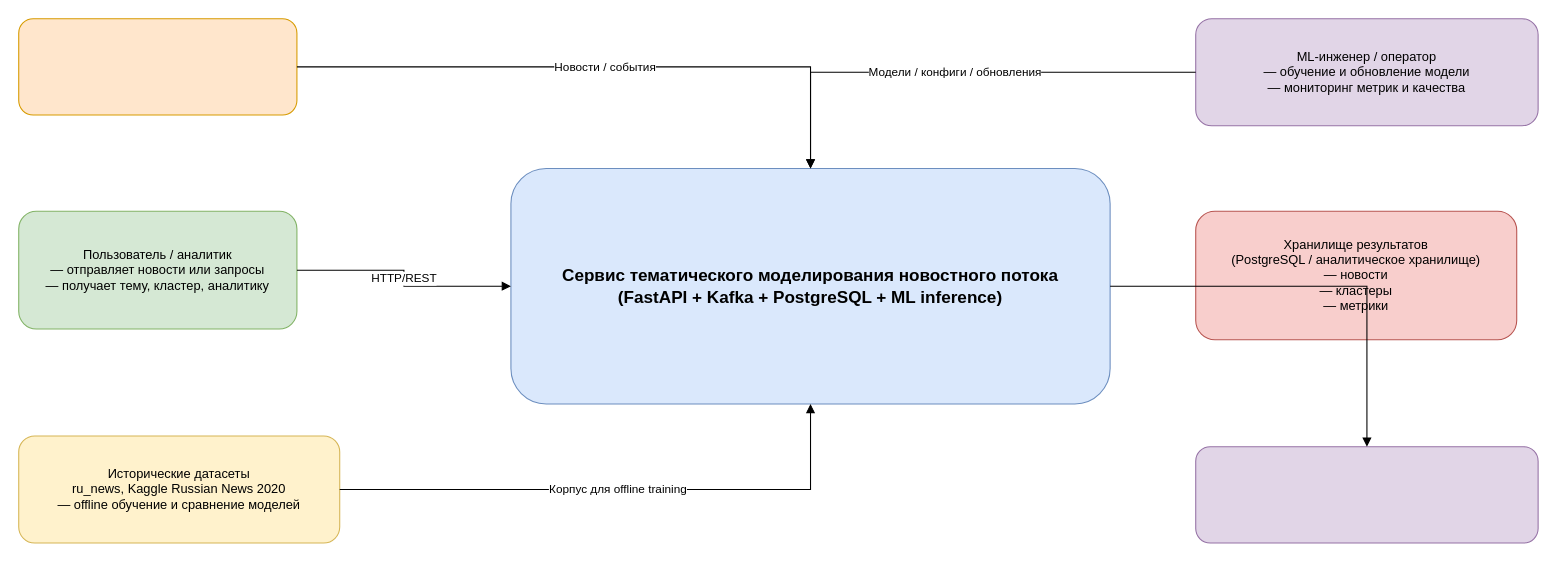
The diagram is 1557 pixels wide and 562 high, and some of its shapes have lost their labels. Each missing label, with the box of its shape:
Внешние BI / dashboard системы — тематическая аналитика — тренды и инфоповоды: (1195, 446, 1538, 543)
Источники новостей (RSS, сайты СМИ, парсеры, API): (18, 18, 297, 115)
